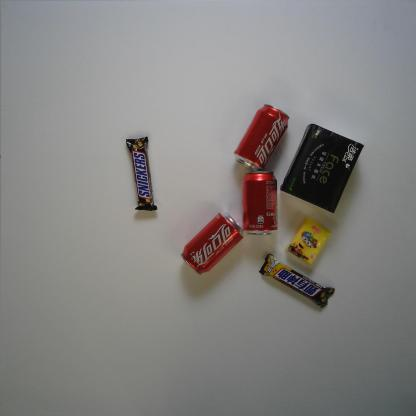Chocolate: (259, 254, 335, 309), (126, 136, 158, 212)
Drink: (180, 211, 245, 276), (233, 104, 290, 172), (242, 170, 278, 236)
Tissue: (280, 122, 365, 214), (287, 217, 331, 266)
